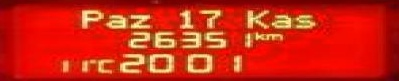0: (144, 51, 174, 72), (182, 51, 212, 72)
1: (174, 8, 193, 28), (228, 54, 242, 71), (239, 31, 252, 47), (76, 57, 87, 71), (57, 57, 68, 71)
2: (114, 51, 144, 71), (123, 30, 150, 47)
3: (177, 30, 198, 47)
5: (201, 30, 225, 47)
6: (149, 30, 174, 47)
7: (195, 8, 220, 28)
X: (242, 8, 266, 28), (76, 7, 101, 26), (290, 12, 315, 27), (101, 12, 125, 27), (125, 12, 149, 27), (266, 12, 290, 27), (93, 57, 114, 72), (261, 33, 280, 39), (253, 30, 264, 39)
